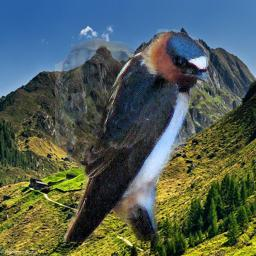Swallow: (55, 29, 210, 242)
